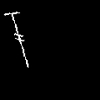treble_crochet: (4, 12, 27, 66)
